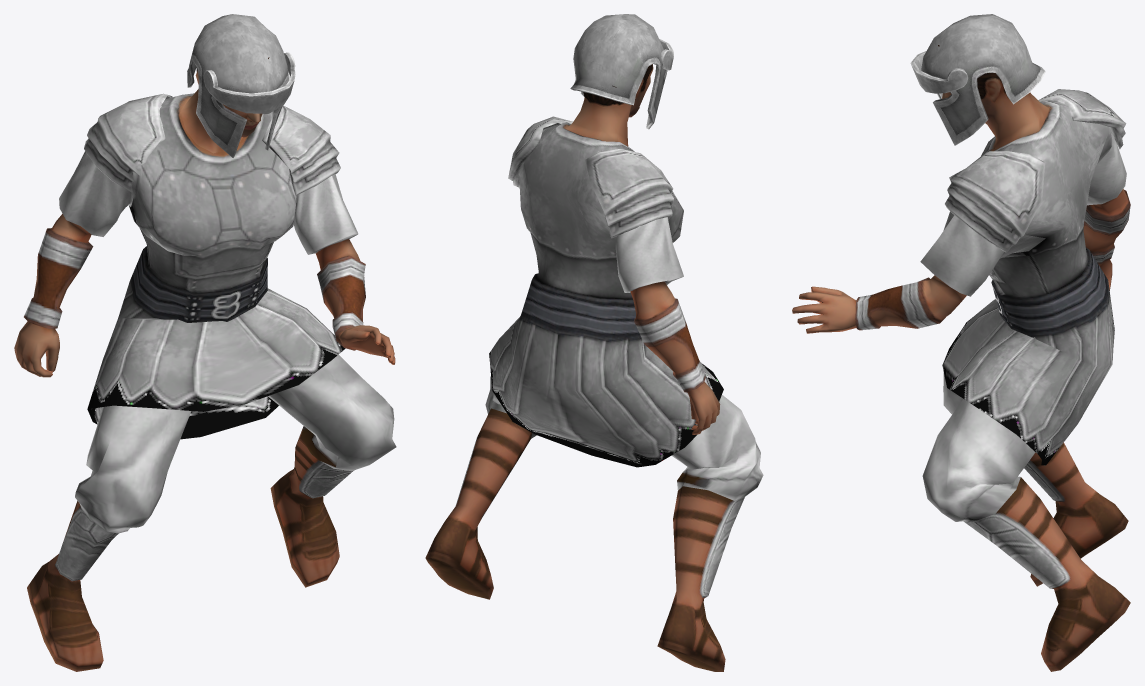
File: rider-heavyarchers.glb
3 views of the same model, side by side, from view 1: azimuth 30°, elevation 25°; view 2: azimuth 150°, elevation 25°; view 3: azimuth 270°, elevation 25° (orthographic). The views are drawn at different scales.
Bounding box in the file's own units: 0.9623 × 1.95 × 0.965.
Materials: 2 (2 with a texture image).
